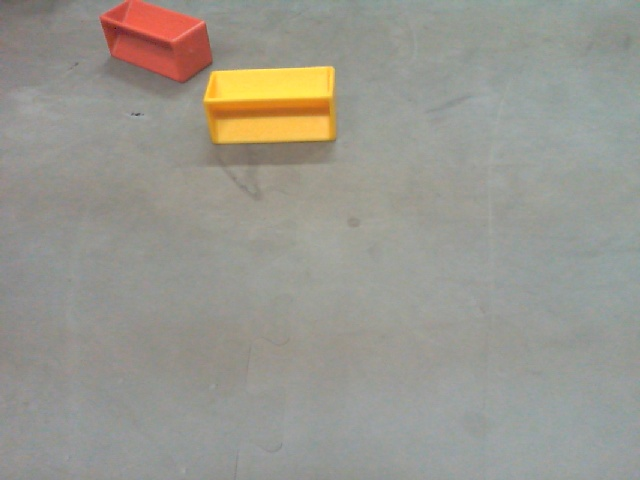RedSample: (99, 1, 214, 83)
YellowSample: (200, 67, 339, 146)
